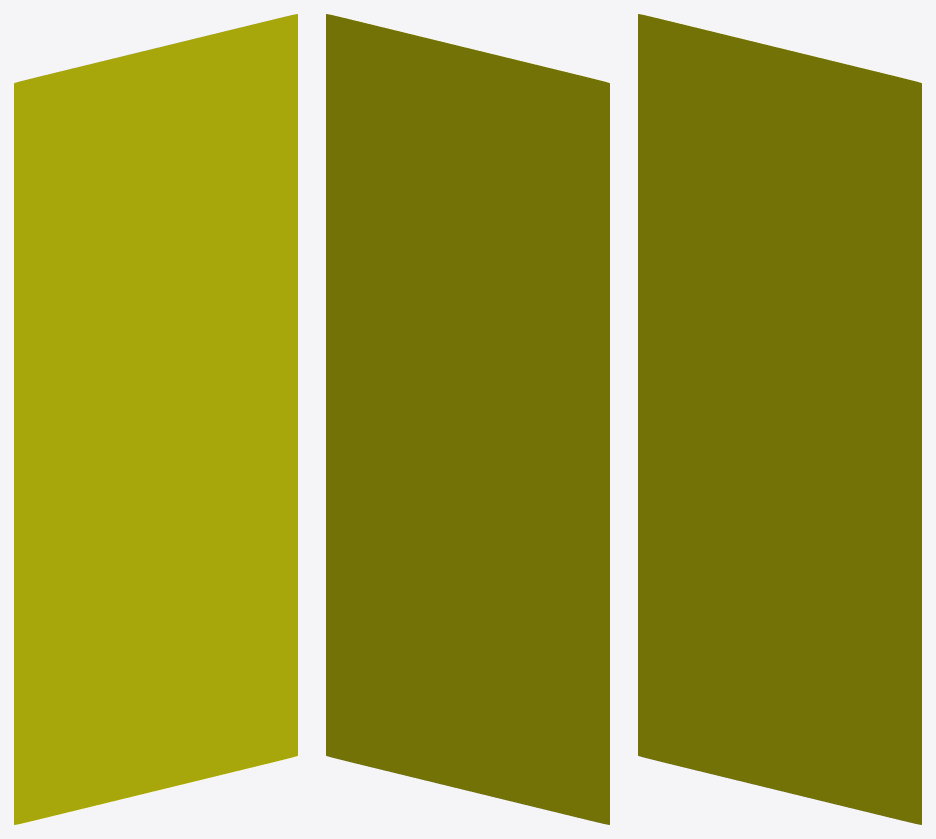
The model's file is Confetti.002.fbx.
3 views of the same model, side by side, from view 1: azimuth 30°, elevation 25°; view 2: azimuth 150°, elevation 25°; view 3: azimuth 330°, elevation 25° (orthographic).
Parts seen in each view (by area): view 1: Confetti.002; view 2: Confetti.002; view 3: Confetti.002.
Boxes of the visible parts, x1,y1,x2,y2 form: Confetti.002: [14, 14, 297, 824]; Confetti.002: [326, 14, 609, 824]; Confetti.002: [638, 14, 921, 824].
Bounding box in the file's own units: 0.8 × 2 × 1.51e-07.
